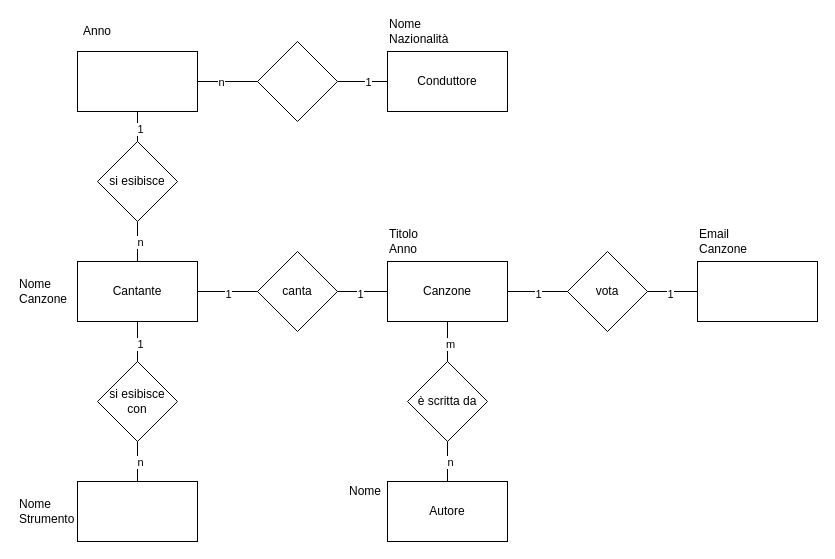
Some shapes in this 835 by 559 pixel diagram are drawn without their labels. The centre of each missing label's shape, as x and y in pixels:
"Festival" belongs at (x=137, y=81).
"ha" belongs at (x=297, y=81).
"Musicista" belongs at (x=137, y=511).
"Partecipante" belongs at (x=757, y=291).
